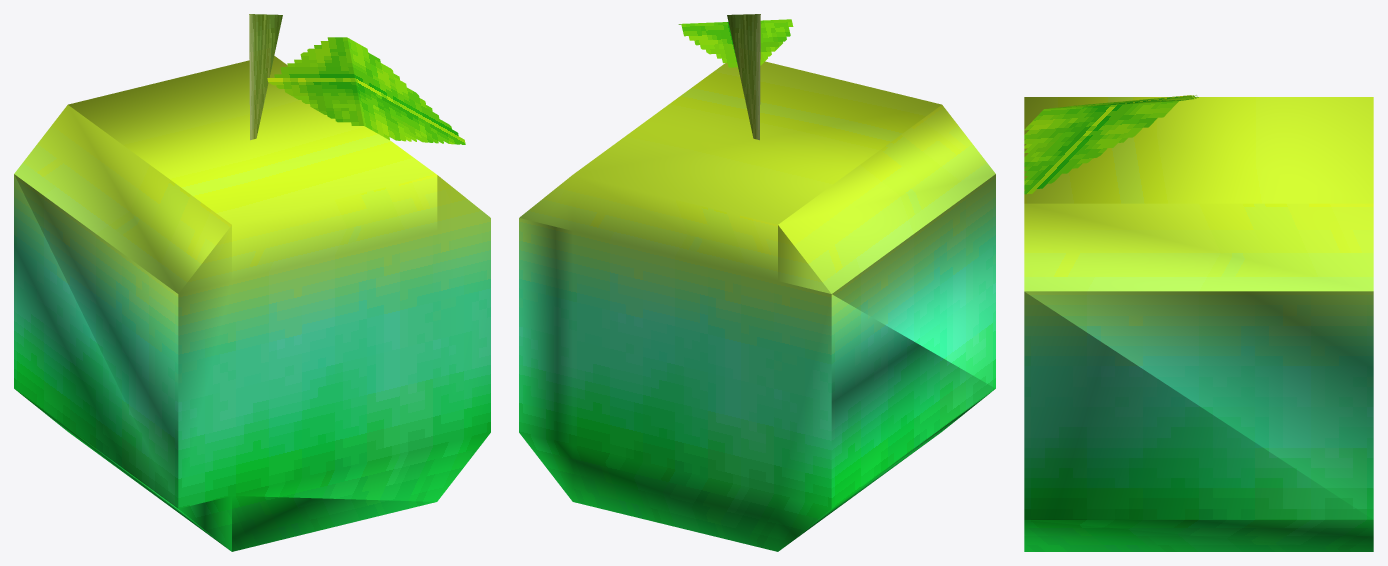
File: Square Fruit.obj
3 renders of one model, left to right at view 1: azimuth 30°, elevation 25°; view 2: azimuth 150°, elevation 25°; view 3: azimuth 270°, elevation 25°, orthographic. The views are drawn at different scales.
Parts seen in each view (by area): view 1: Mesh_0139; view 2: Mesh_0139; view 3: Mesh_0139.
Boxes of the visible parts, x1,y1,x2,y2 form: Mesh_0139: (14, 14, 490, 551); Mesh_0139: (519, 14, 995, 551); Mesh_0139: (1024, 95, 1373, 551).
Size of the model in its own units: 2.18 by 3.02 by 1.98.
Materials: 3 (3 with a texture image).
